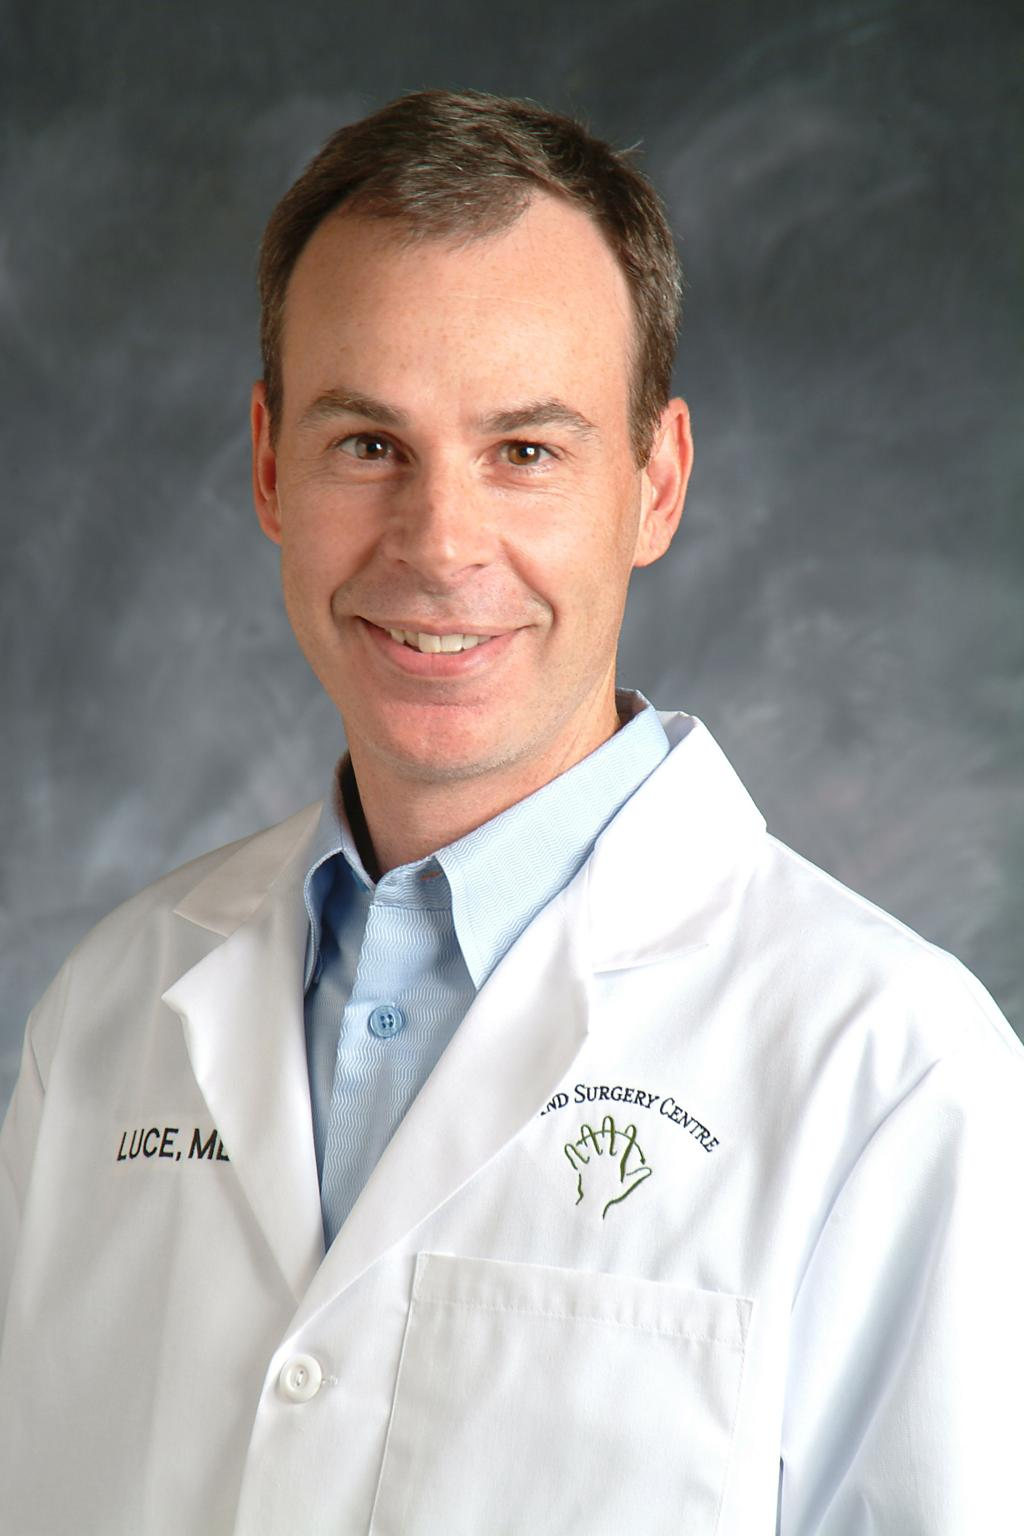face: (282, 192, 639, 781)
